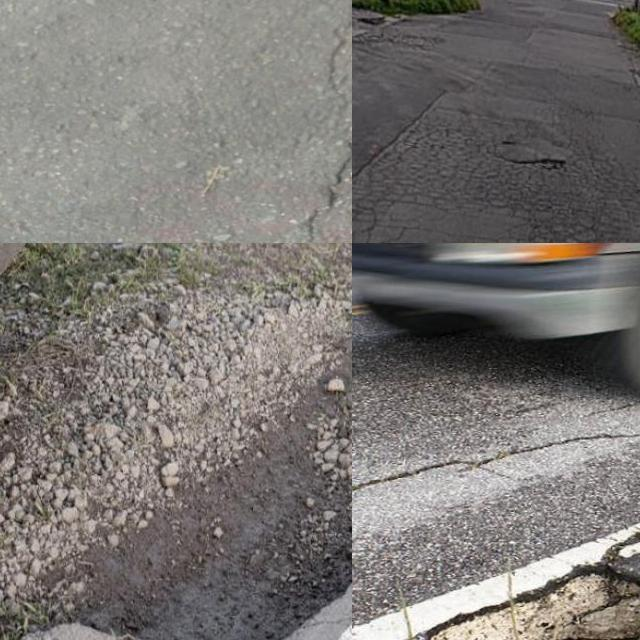Memanjang: (295, 0, 352, 243)
Pinggir: (30, 308, 352, 640), (418, 537, 640, 640)
Retak Buaya: (352, 109, 640, 243)
